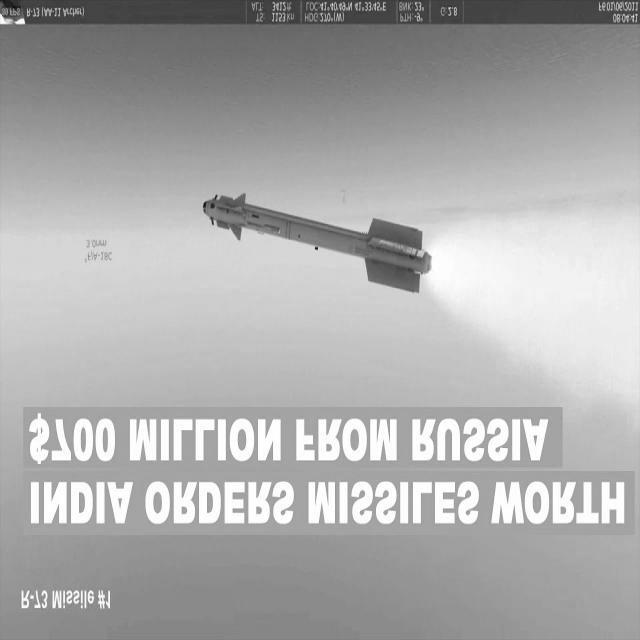missile: (189, 187, 440, 304)
